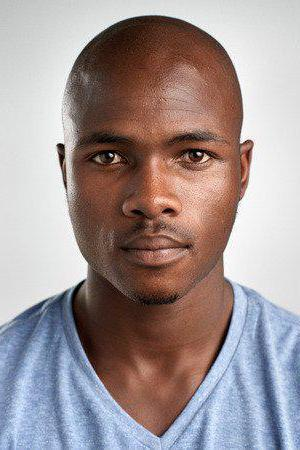Sober: (72, 74, 237, 291)
